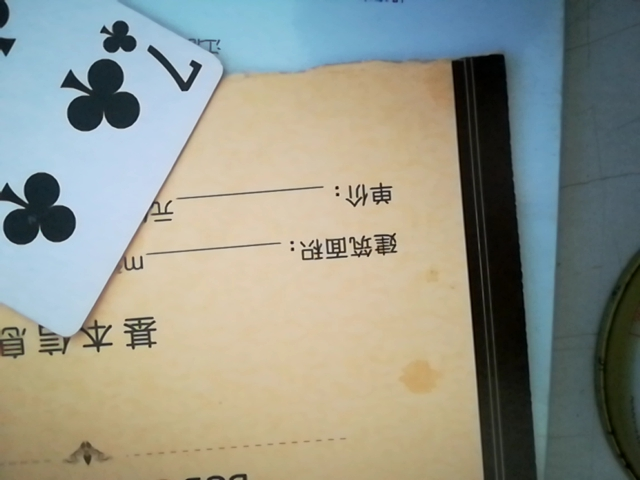mh 7: (0, 0, 227, 344)
